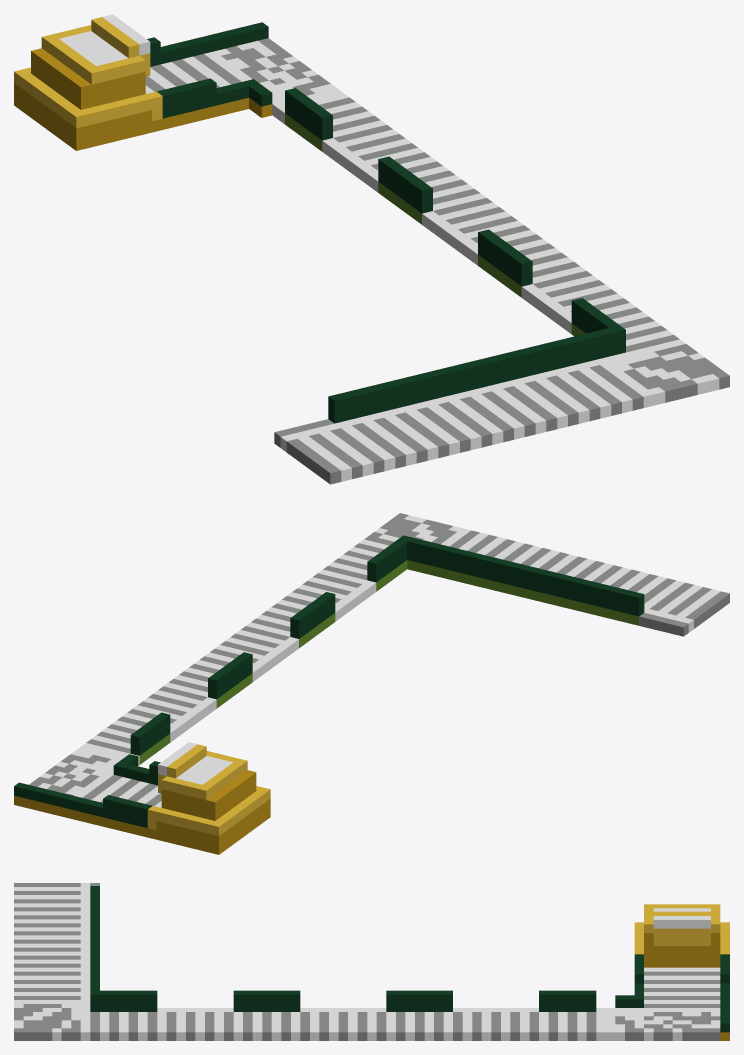
The model's file is Belt.gltf.
3 views of the same model, one above another, from view 1: azimuth 30°, elevation 25°; view 2: azimuth 150°, elevation 25°; view 3: azimuth 270°, elevation 25° (orthographic). The views are drawn at different scales.
Size of the model in its own units: 3.7 by 0.7 by 7.5.
1 material, 1 textured.
